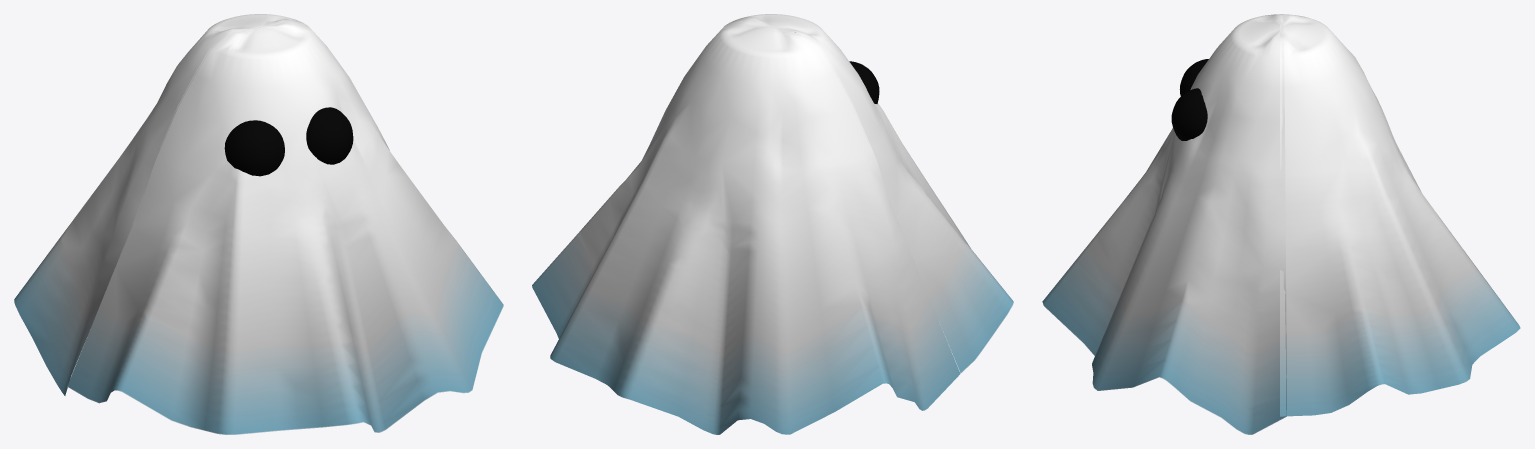
The model's file is ghost2.dae.
The picture shows the model from 3 angles, left to right: view 1: azimuth 30°, elevation 25°; view 2: azimuth 150°, elevation 25°; view 3: azimuth 270°, elevation 25°; orthographic projection. The views are drawn at different scales.
Visible parts, largest first — view 1: nurbsToPoly2, nurbsToPoly3, pSphere2, pSphere3; view 2: nurbsToPoly3, nurbsToPoly2, pSphere2; view 3: nurbsToPoly2, nurbsToPoly3, pSphere3.
Boxes of the visible parts, <box> form: nurbsToPoly2: <box>67,20,503,434</box>; nurbsToPoly3: <box>14,14,307,395</box>; pSphere2: <box>224,120,284,176</box>; pSphere3: <box>306,107,353,164</box>; nurbsToPoly3: <box>532,20,960,434</box>; nurbsToPoly2: <box>724,14,1013,373</box>; pSphere2: <box>849,61,879,103</box>; nurbsToPoly2: <box>1042,14,1286,434</box>; nurbsToPoly3: <box>1280,14,1520,416</box>; pSphere3: <box>1171,88,1207,140</box>.
Bounding box in the file's own units: 1.27 × 1.07 × 1.39.
2 materials, 2 textured.
